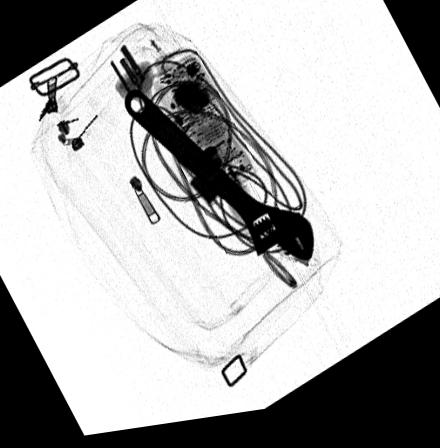Wrench: (119, 91, 314, 274)
